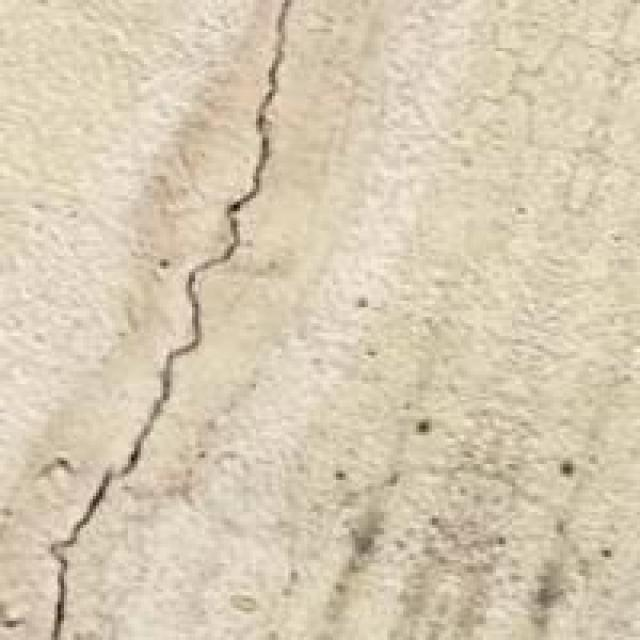Crack: (19, 0, 336, 637)
